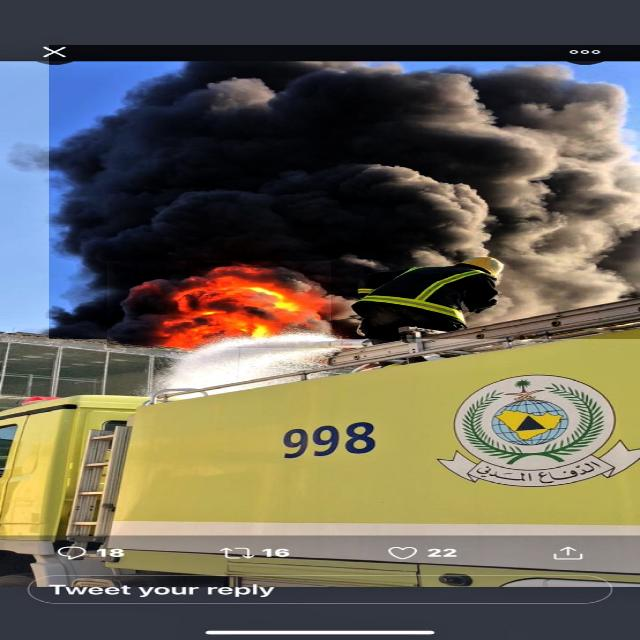Fire: (108, 261, 332, 348)
Smoke: (49, 45, 640, 339)
